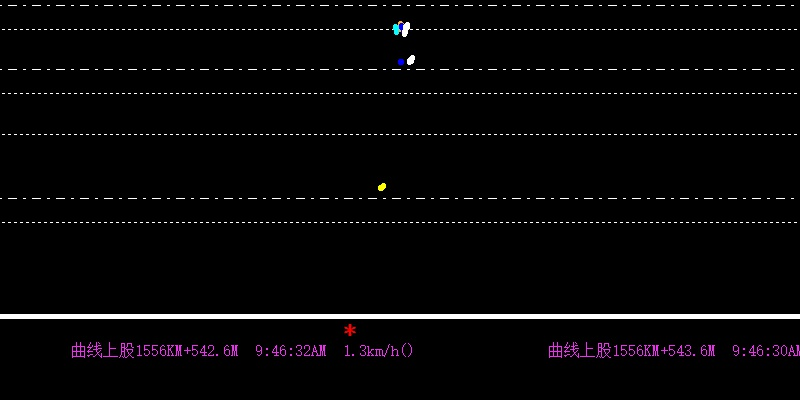face_2: (391, 16, 412, 41)
star: (341, 322, 359, 339)
